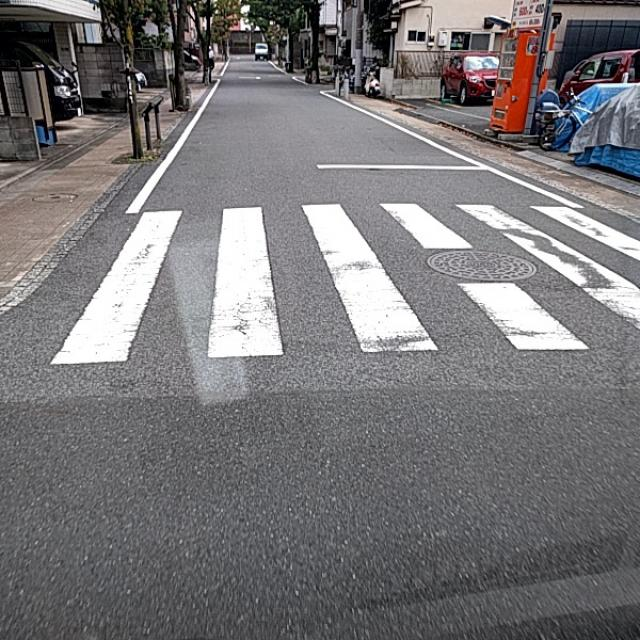pothole: (184, 283, 280, 392)
